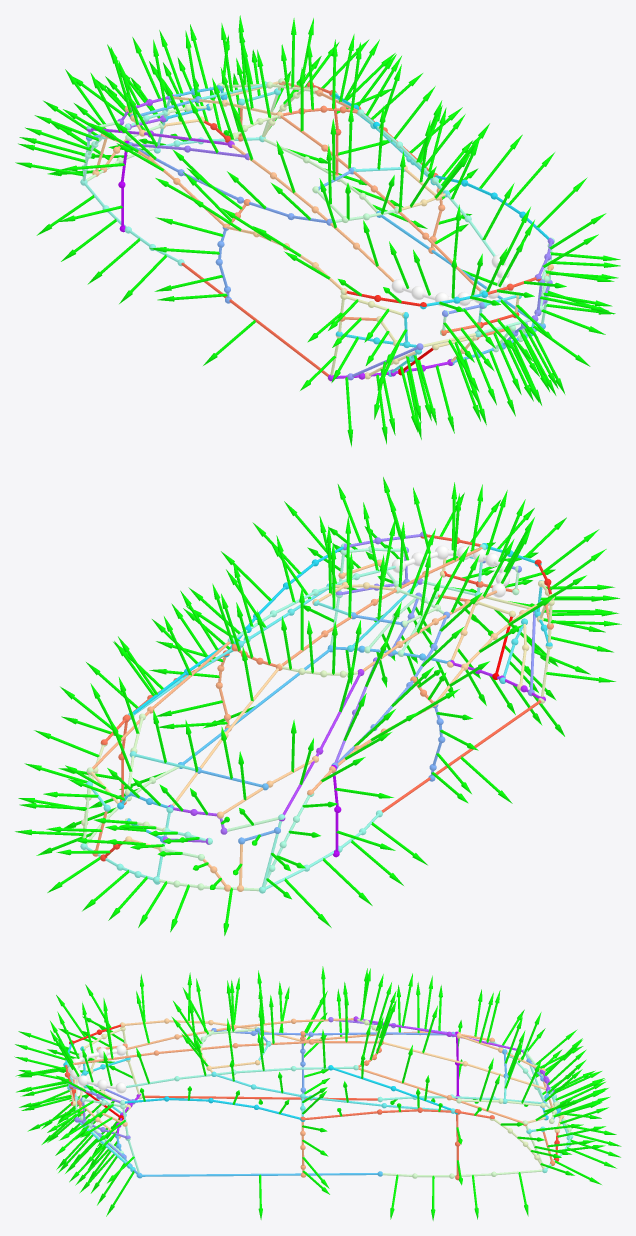
File: ils_car3.gltf
The picture shows the model from 3 angles, top to bottom: view 1: azimuth 30°, elevation 25°; view 2: azimuth 150°, elevation 25°; view 3: azimuth 270°, elevation 25°; orthographic projection. The views are drawn at different scales.
Size of the model in its own units: 0.5441 by 0.3697 by 1.1.
